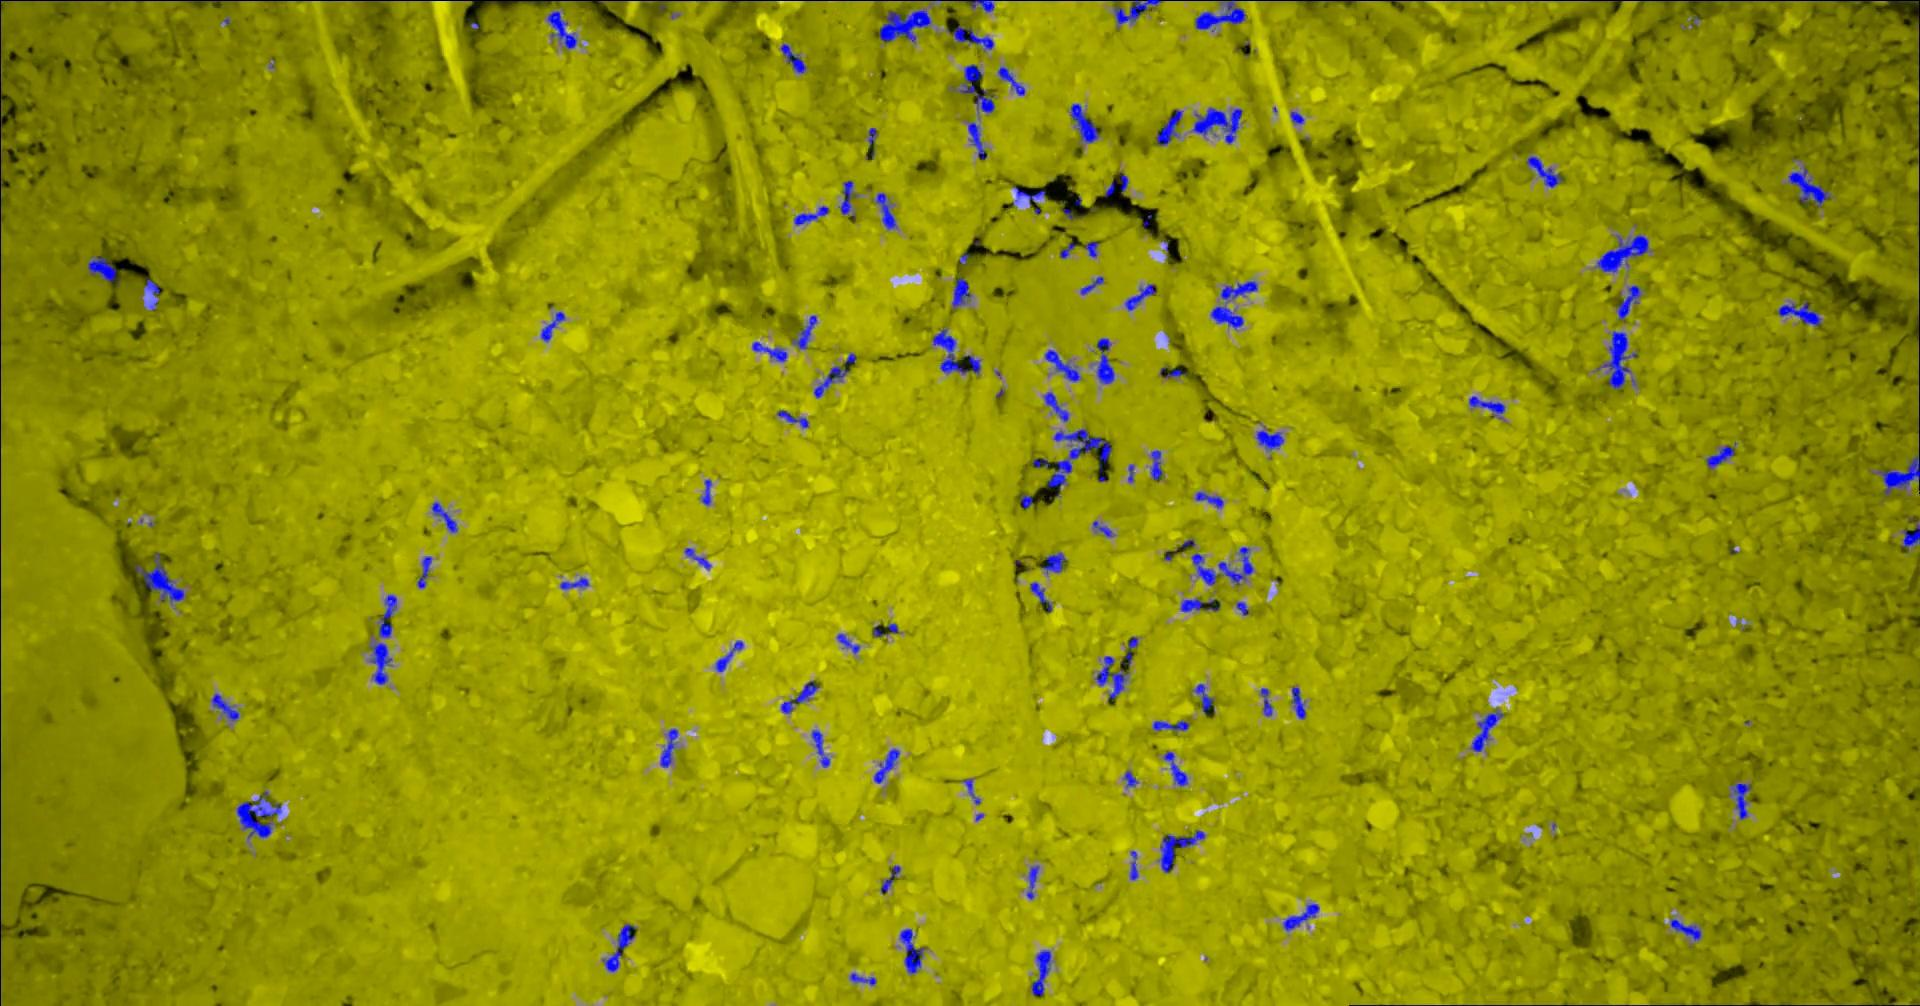ant: (135, 553, 183, 601), (932, 328, 980, 373), (236, 790, 281, 838), (813, 352, 856, 398), (1603, 332, 1636, 389), (1161, 829, 1204, 873), (1596, 235, 1648, 271), (1192, 107, 1242, 144), (959, 64, 994, 113), (1877, 453, 1919, 495), (1787, 166, 1830, 207), (877, 10, 930, 41), (602, 923, 635, 970), (1195, 0, 1244, 30), (1095, 655, 1128, 699), (1470, 709, 1503, 751), (1218, 546, 1253, 584), (780, 680, 819, 713), (946, 24, 993, 50), (1112, 0, 1162, 23), (1526, 155, 1562, 187), (1777, 301, 1821, 326), (1044, 349, 1079, 381), (547, 10, 577, 48), (1070, 103, 1098, 142), (899, 929, 923, 973), (1283, 903, 1319, 930), (1030, 950, 1051, 995), (872, 748, 899, 782), (370, 641, 391, 683), (1156, 109, 1181, 145), (715, 640, 743, 671), (1124, 283, 1156, 310), (430, 500, 457, 532), (1191, 553, 1217, 586), (1096, 337, 1114, 384), (1163, 751, 1187, 785), (1468, 395, 1503, 418), (792, 315, 817, 348), (1617, 285, 1639, 319), (997, 66, 1023, 95), (875, 192, 897, 227), (1210, 306, 1243, 329), (1220, 279, 1257, 300), (378, 594, 396, 636), (780, 43, 805, 72), (1043, 391, 1068, 420), (810, 729, 829, 767), (792, 205, 828, 225), (750, 340, 786, 361), (211, 694, 237, 720), (540, 311, 564, 340), (1029, 580, 1051, 611), (1669, 918, 1700, 940), (968, 121, 985, 159), (88, 257, 116, 281), (1732, 782, 1750, 819), (660, 728, 677, 767), (1705, 445, 1733, 467), (1192, 683, 1213, 714), (1013, 185, 1045, 205), (880, 865, 900, 894), (838, 180, 856, 213), (951, 277, 970, 307), (1255, 429, 1283, 450), (776, 409, 808, 427), (684, 547, 710, 569), (1900, 520, 1919, 547), (1180, 598, 1219, 611), (143, 278, 159, 309), (1043, 553, 1065, 573), (836, 633, 858, 653), (963, 779, 980, 804), (417, 555, 430, 587), (1079, 276, 1103, 293), (1195, 492, 1223, 507), (1291, 687, 1305, 718), (559, 575, 588, 589), (957, 0, 993, 11), (1026, 865, 1037, 899), (1124, 636, 1137, 667), (1152, 720, 1189, 730), (1260, 687, 1272, 716), (1150, 450, 1162, 480), (850, 972, 876, 984), (1092, 520, 1111, 536), (1159, 366, 1185, 377), (701, 479, 711, 504), (1059, 243, 1076, 258), (1123, 770, 1137, 786), (1129, 850, 1137, 879), (1083, 241, 1097, 257), (1119, 171, 1128, 194), (1020, 493, 1032, 508), (1236, 601, 1248, 615), (1290, 111, 1303, 123), (867, 127, 876, 145), (1032, 459, 1049, 467)
